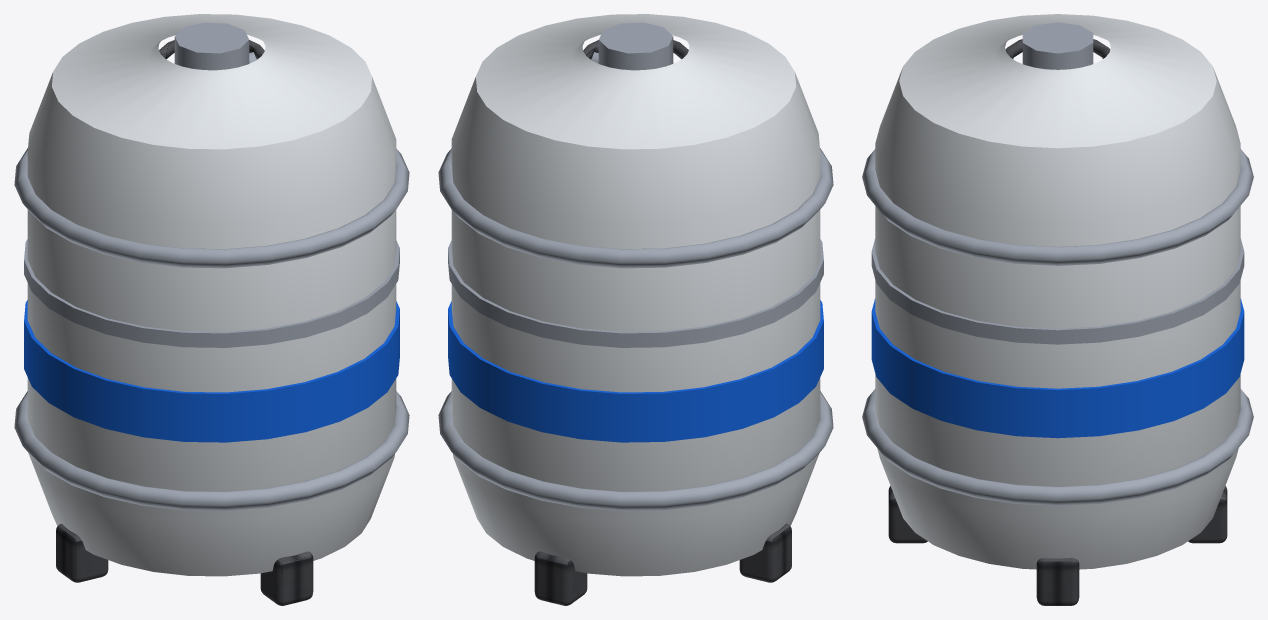
Rendered from PickupJar.glb.
The picture shows the model from 3 angles, left to right: view 1: azimuth 30°, elevation 25°; view 2: azimuth 150°, elevation 25°; view 3: azimuth 270°, elevation 25°; orthographic projection.
Parts seen in each view (by area): view 1: TNK_Tank_Mesh; view 2: TNK_Tank_Mesh; view 3: TNK_Tank_Mesh.
Boxes of the visible parts, bbox=[...] form: TNK_Tank_Mesh: bbox=[14, 14, 409, 605]; TNK_Tank_Mesh: bbox=[438, 14, 833, 605]; TNK_Tank_Mesh: bbox=[862, 14, 1253, 605].
Bounding box in the file's own units: 0.74 × 1.04 × 0.74.
Materials: 4 (1 with a texture image).
